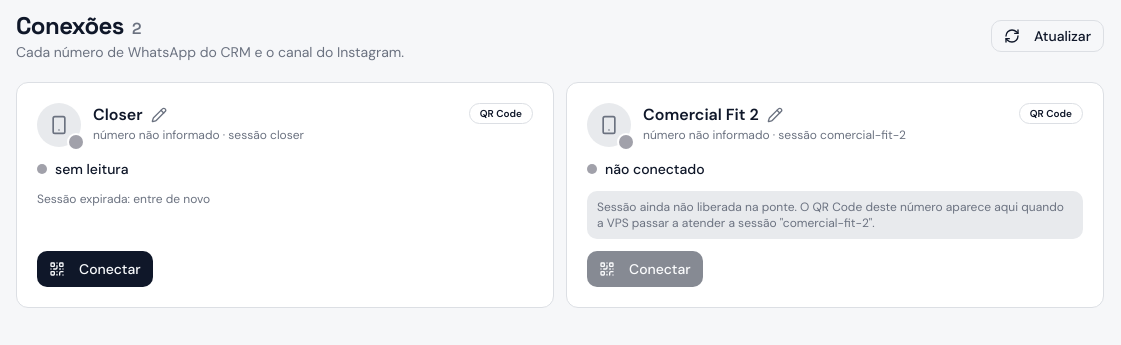
Test: /crm/conexoes: lápis no nome do cartão › erro do banco aparece no cartão e mantém a edição aberta
Click the button named "Editar nome" at (775, 115), box [763,103,787,127]
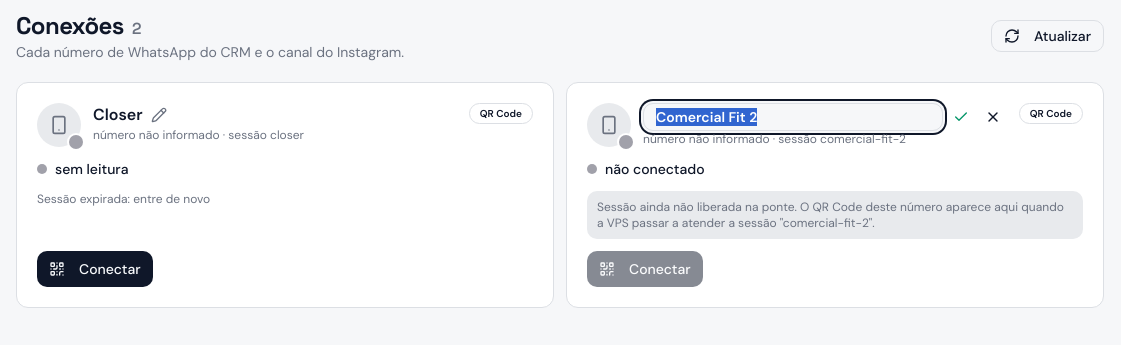
Replace the text in the field with "Suporte" at (793, 117), box [643,103,943,131]
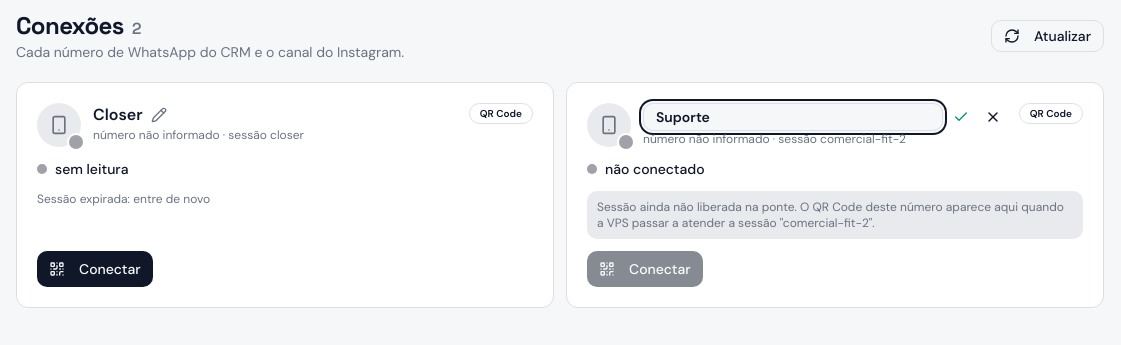
Click the button named "Salvar nome" at (961, 117), box [947,103,975,131]
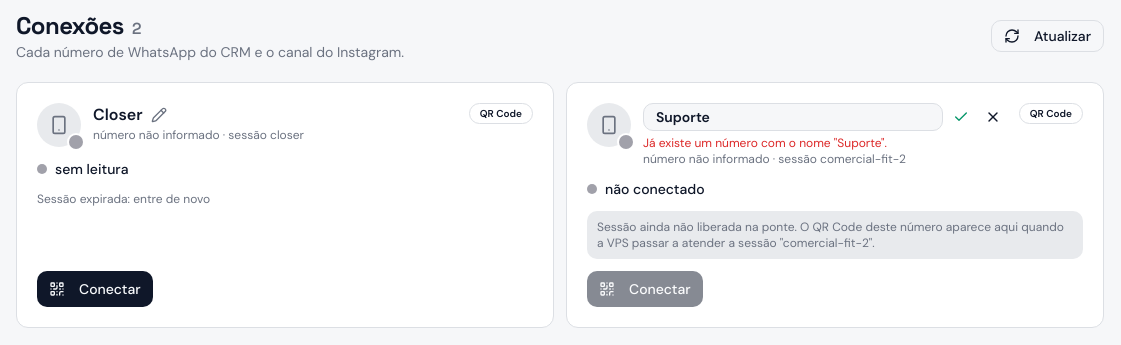
Result: the message shows "Já existe" at [643,135,887,151]
